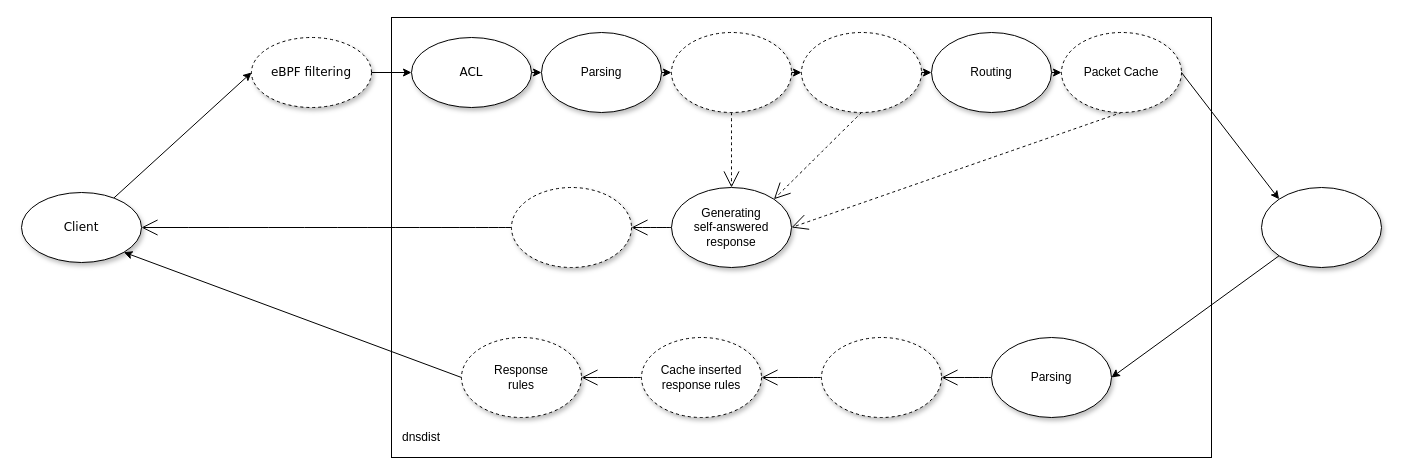
This 1405x475 diagram has some shape labels left out. The shapes that lost their labels are listed below. From the top down, each one's centre as x and y in pixels, then its label:
At [732,74]: "Dynamic blocks".
At [862,74]: "Rules".
At [572,228]: "Self-answered response rules".
At [1322,228]: "Backend".
At [882,378]: "Packet Cache insertion".
